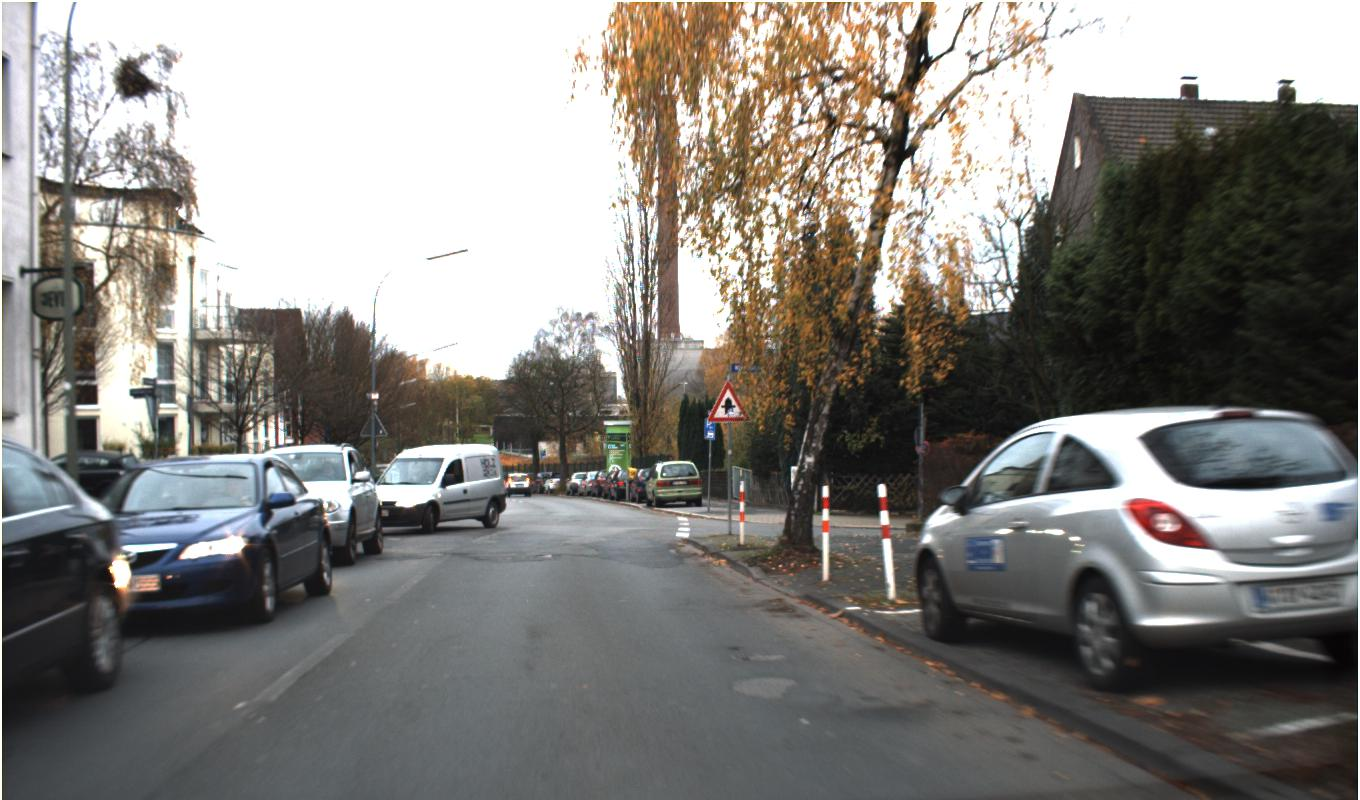danger: (705, 379, 752, 422)
